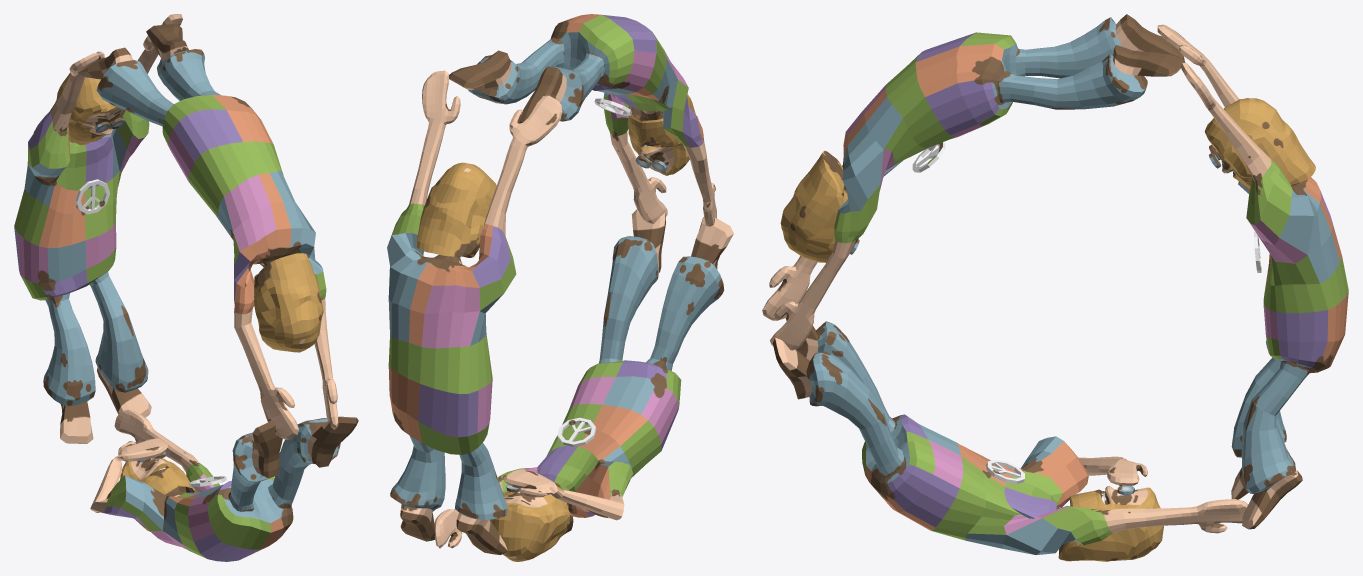
File: PT_char_003.FBX
3 renders of one model, left to right at view 1: azimuth 30°, elevation 25°; view 2: azimuth 150°, elevation 25°; view 3: azimuth 270°, elevation 25°, orthographic. The views are drawn at different scales.
Parts seen in each view (by area): view 1: Box014; view 2: Box014; view 3: Box014.
Boxes of the visible parts, x1=… form: Box014: x1=14, y1=14, x2=358, y2=561; Box014: x1=387, y1=14, x2=733, y2=561; Box014: x1=762, y1=14, x2=1348, y2=561.
Bounding box in the file's own units: 7.88 × 25.7 × 25.93.
1 material, 1 textured.
